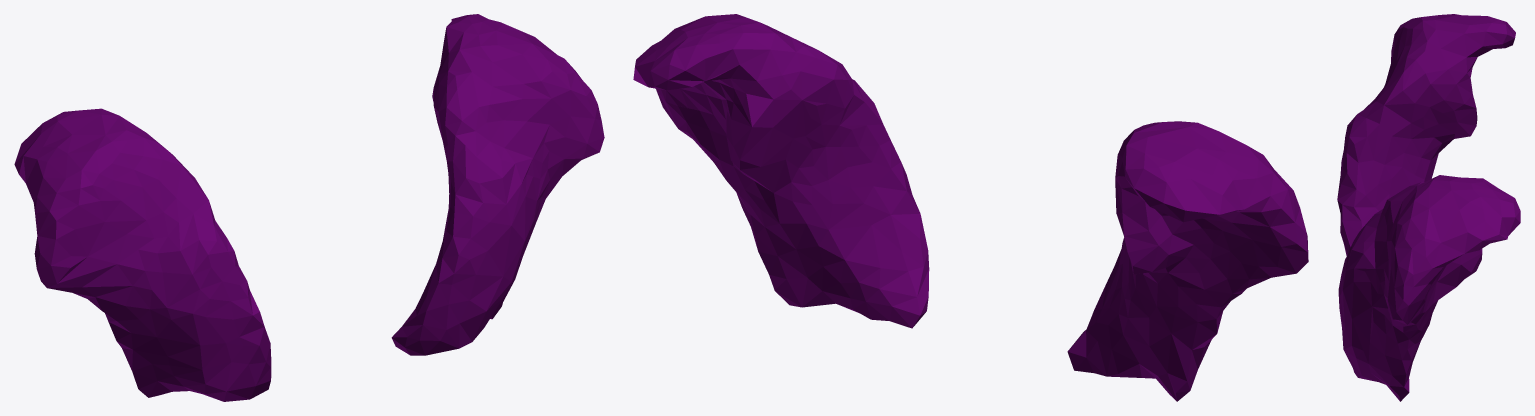
File: 180-VLM-ventral lateral thalamic nucleus, medial part-('0.4588', '0.0000', '0.4980').obj
3 renders of one model, left to right at view 1: azimuth 30°, elevation 25°; view 2: azimuth 150°, elevation 25°; view 3: azimuth 270°, elevation 25°, orthographic. The views are drawn at different scales.
Size of the model in its own units: 126 by 56.67 by 40.58.
